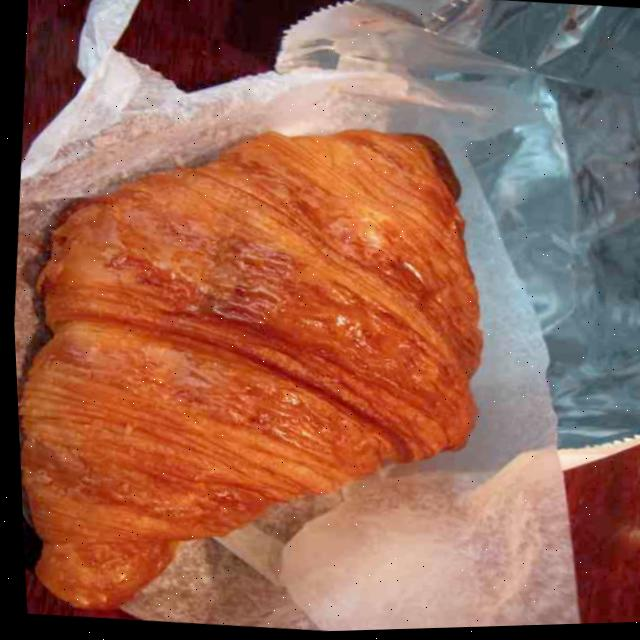面包点心: (3, 86, 521, 640)
